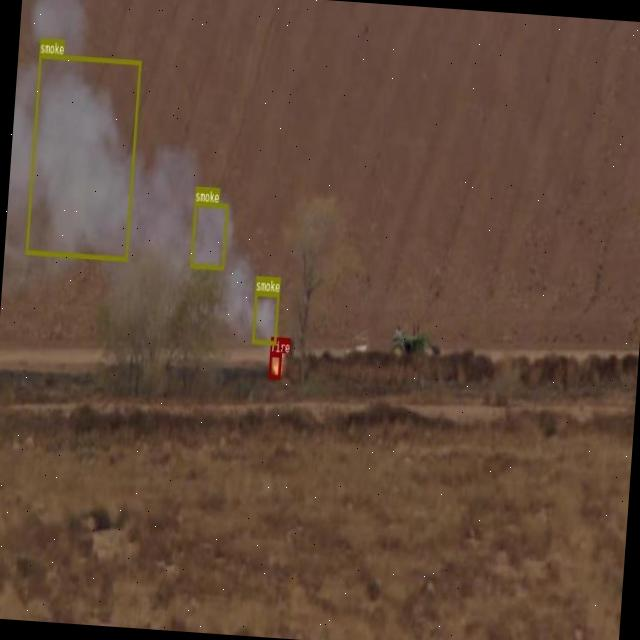fire: (268, 352, 281, 378)
smoke: (25, 54, 141, 260), (189, 201, 228, 269), (251, 290, 279, 344)
